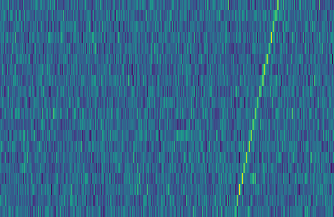signal: (231, 0, 286, 217)
